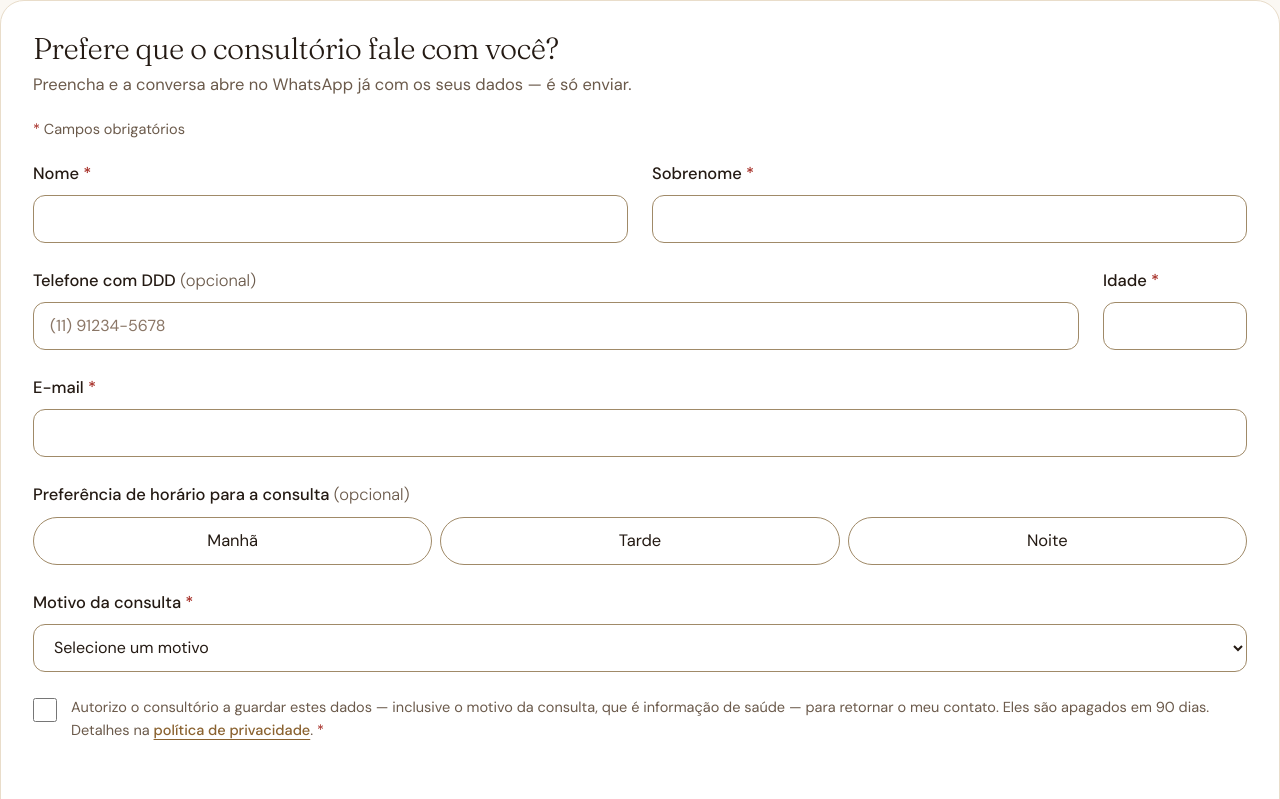
<FormularioContato> › erro aparece ao sair do campo, não antes
Type "maria@" into the field labelled "E-mail *" at x=640, y=433, box [33,409,1247,457]
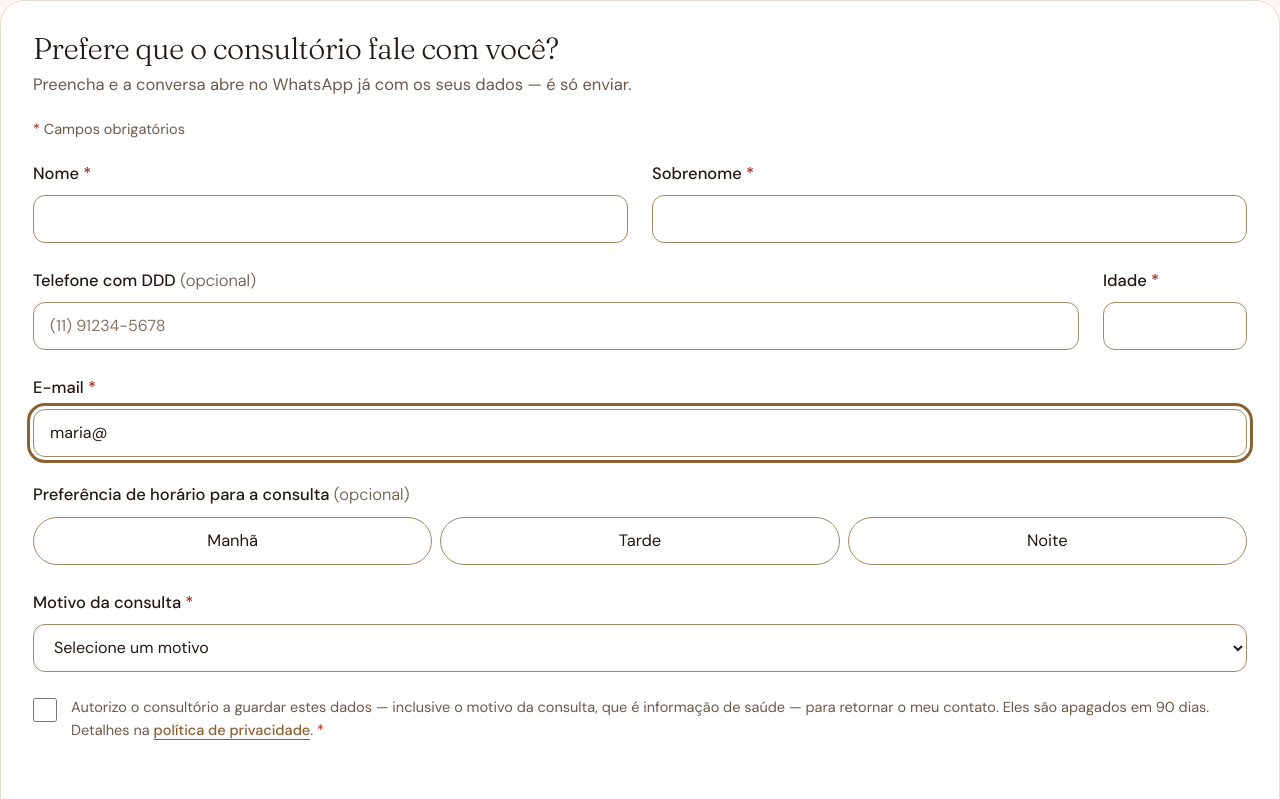
Expected: the text "Informe um e-mail válido, ex.: nome@exemplo.com." is not shown
Press Tab
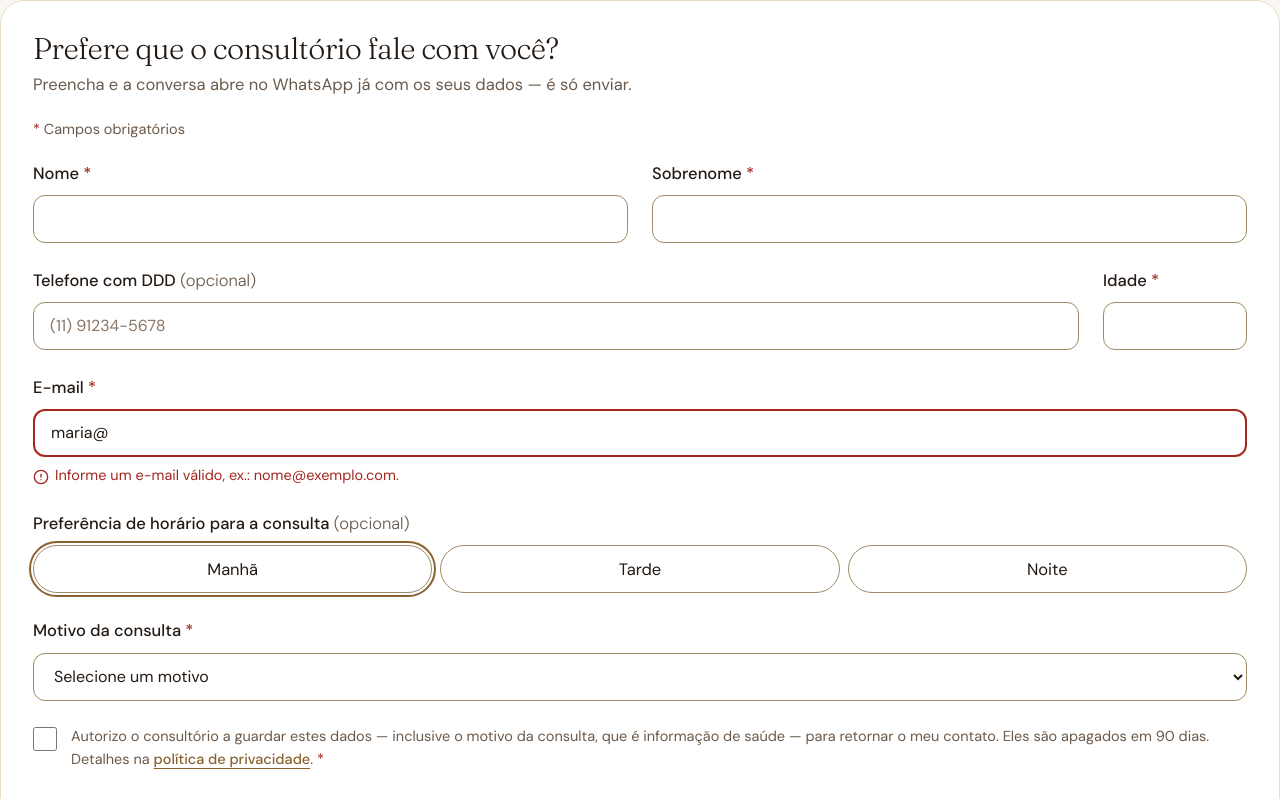
Result: the text "Informe um e-mail válido, ex.: nome@exemplo.com." is shown at [55,465,399,486]
